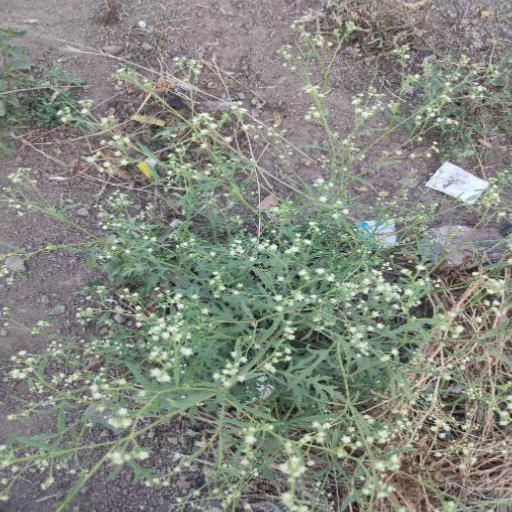weed: (1, 51, 512, 508)
